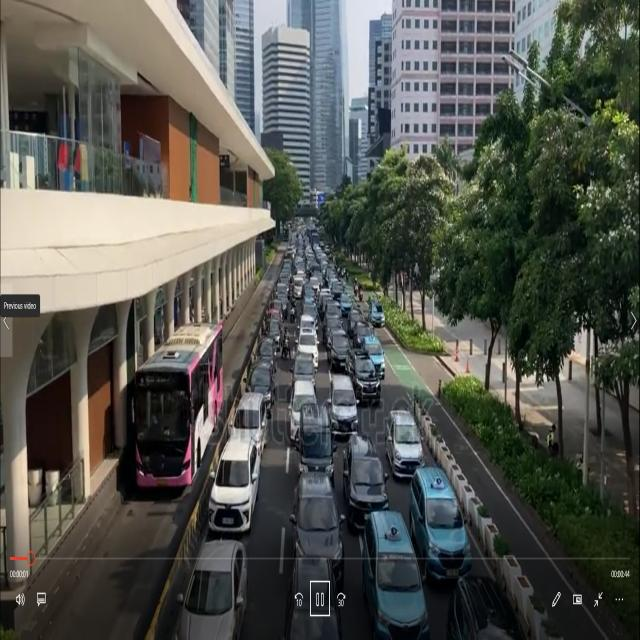Ambulance: (292, 268, 305, 310)
